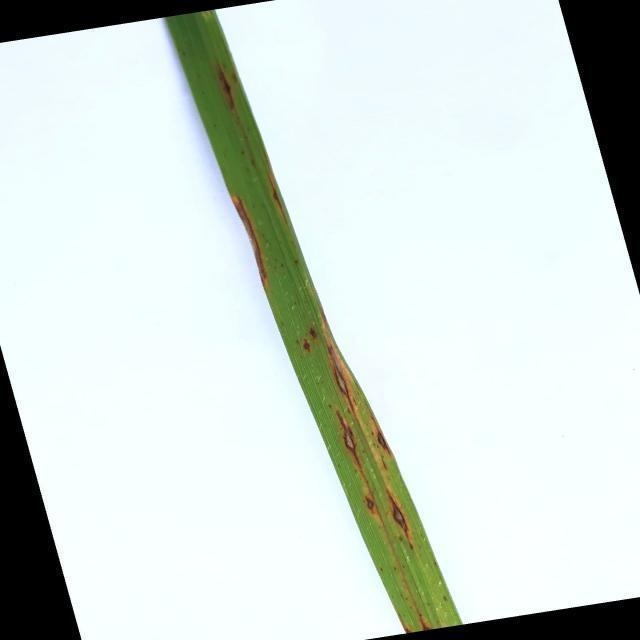Leaf_Blast: (233, 196, 270, 285), (337, 406, 370, 484), (329, 350, 358, 415), (265, 170, 291, 231), (385, 485, 412, 542), (216, 63, 235, 109), (375, 431, 390, 455), (364, 493, 378, 515), (418, 614, 433, 630), (302, 337, 313, 354), (308, 325, 319, 340)
